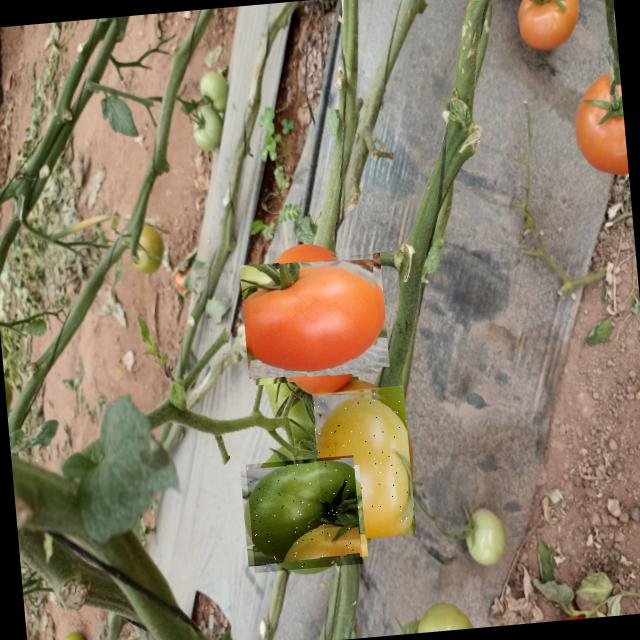Ripe Tomato: (244, 246, 383, 385)
Unripe Tomato: (311, 385, 416, 541), (245, 454, 362, 572)
